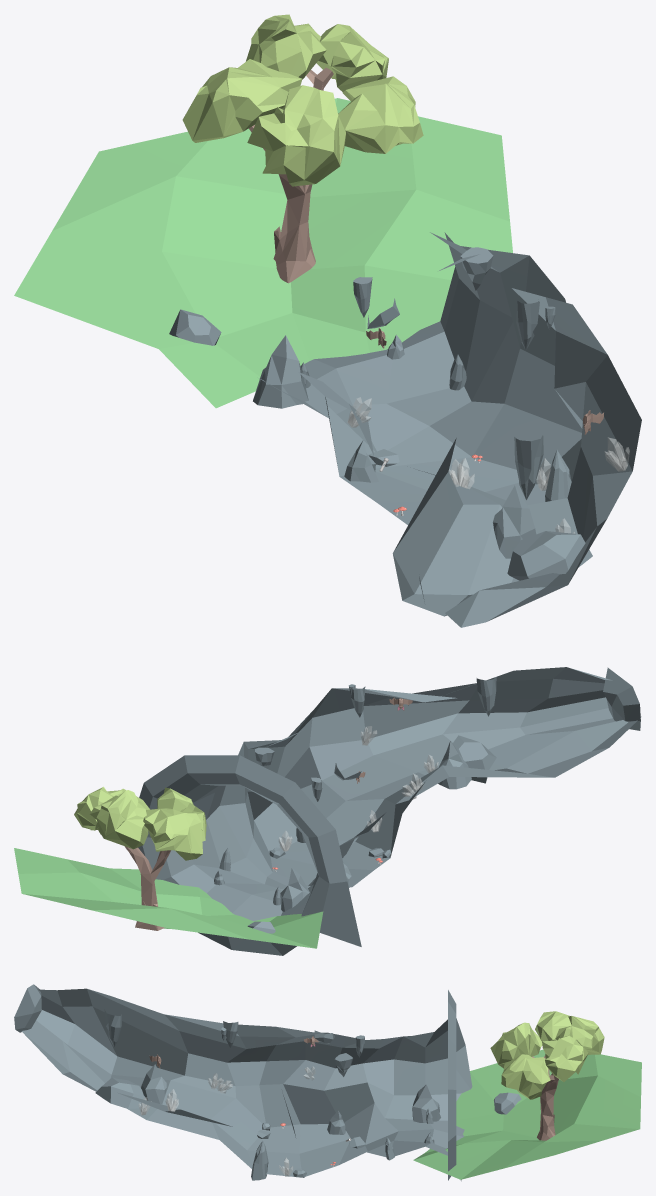
The model's file is asset.gltf.
3 views of the same model, one above another, from view 1: azimuth 30°, elevation 25°; view 2: azimuth 150°, elevation 25°; view 3: azimuth 270°, elevation 25° (orthographic). The views are drawn at different scales.
Parts seen in each view (by area): view 1: mesh96187052; view 2: mesh96187052; view 3: mesh96187052.
Boxes of the visible parts, x1,y1,x2,y2 form: mesh96187052: (14,14,641,627); mesh96187052: (14,667,641,955); mesh96187052: (14,984,641,1181).
Size of the model in its own units: 12.26 by 6.67 by 21.78.
